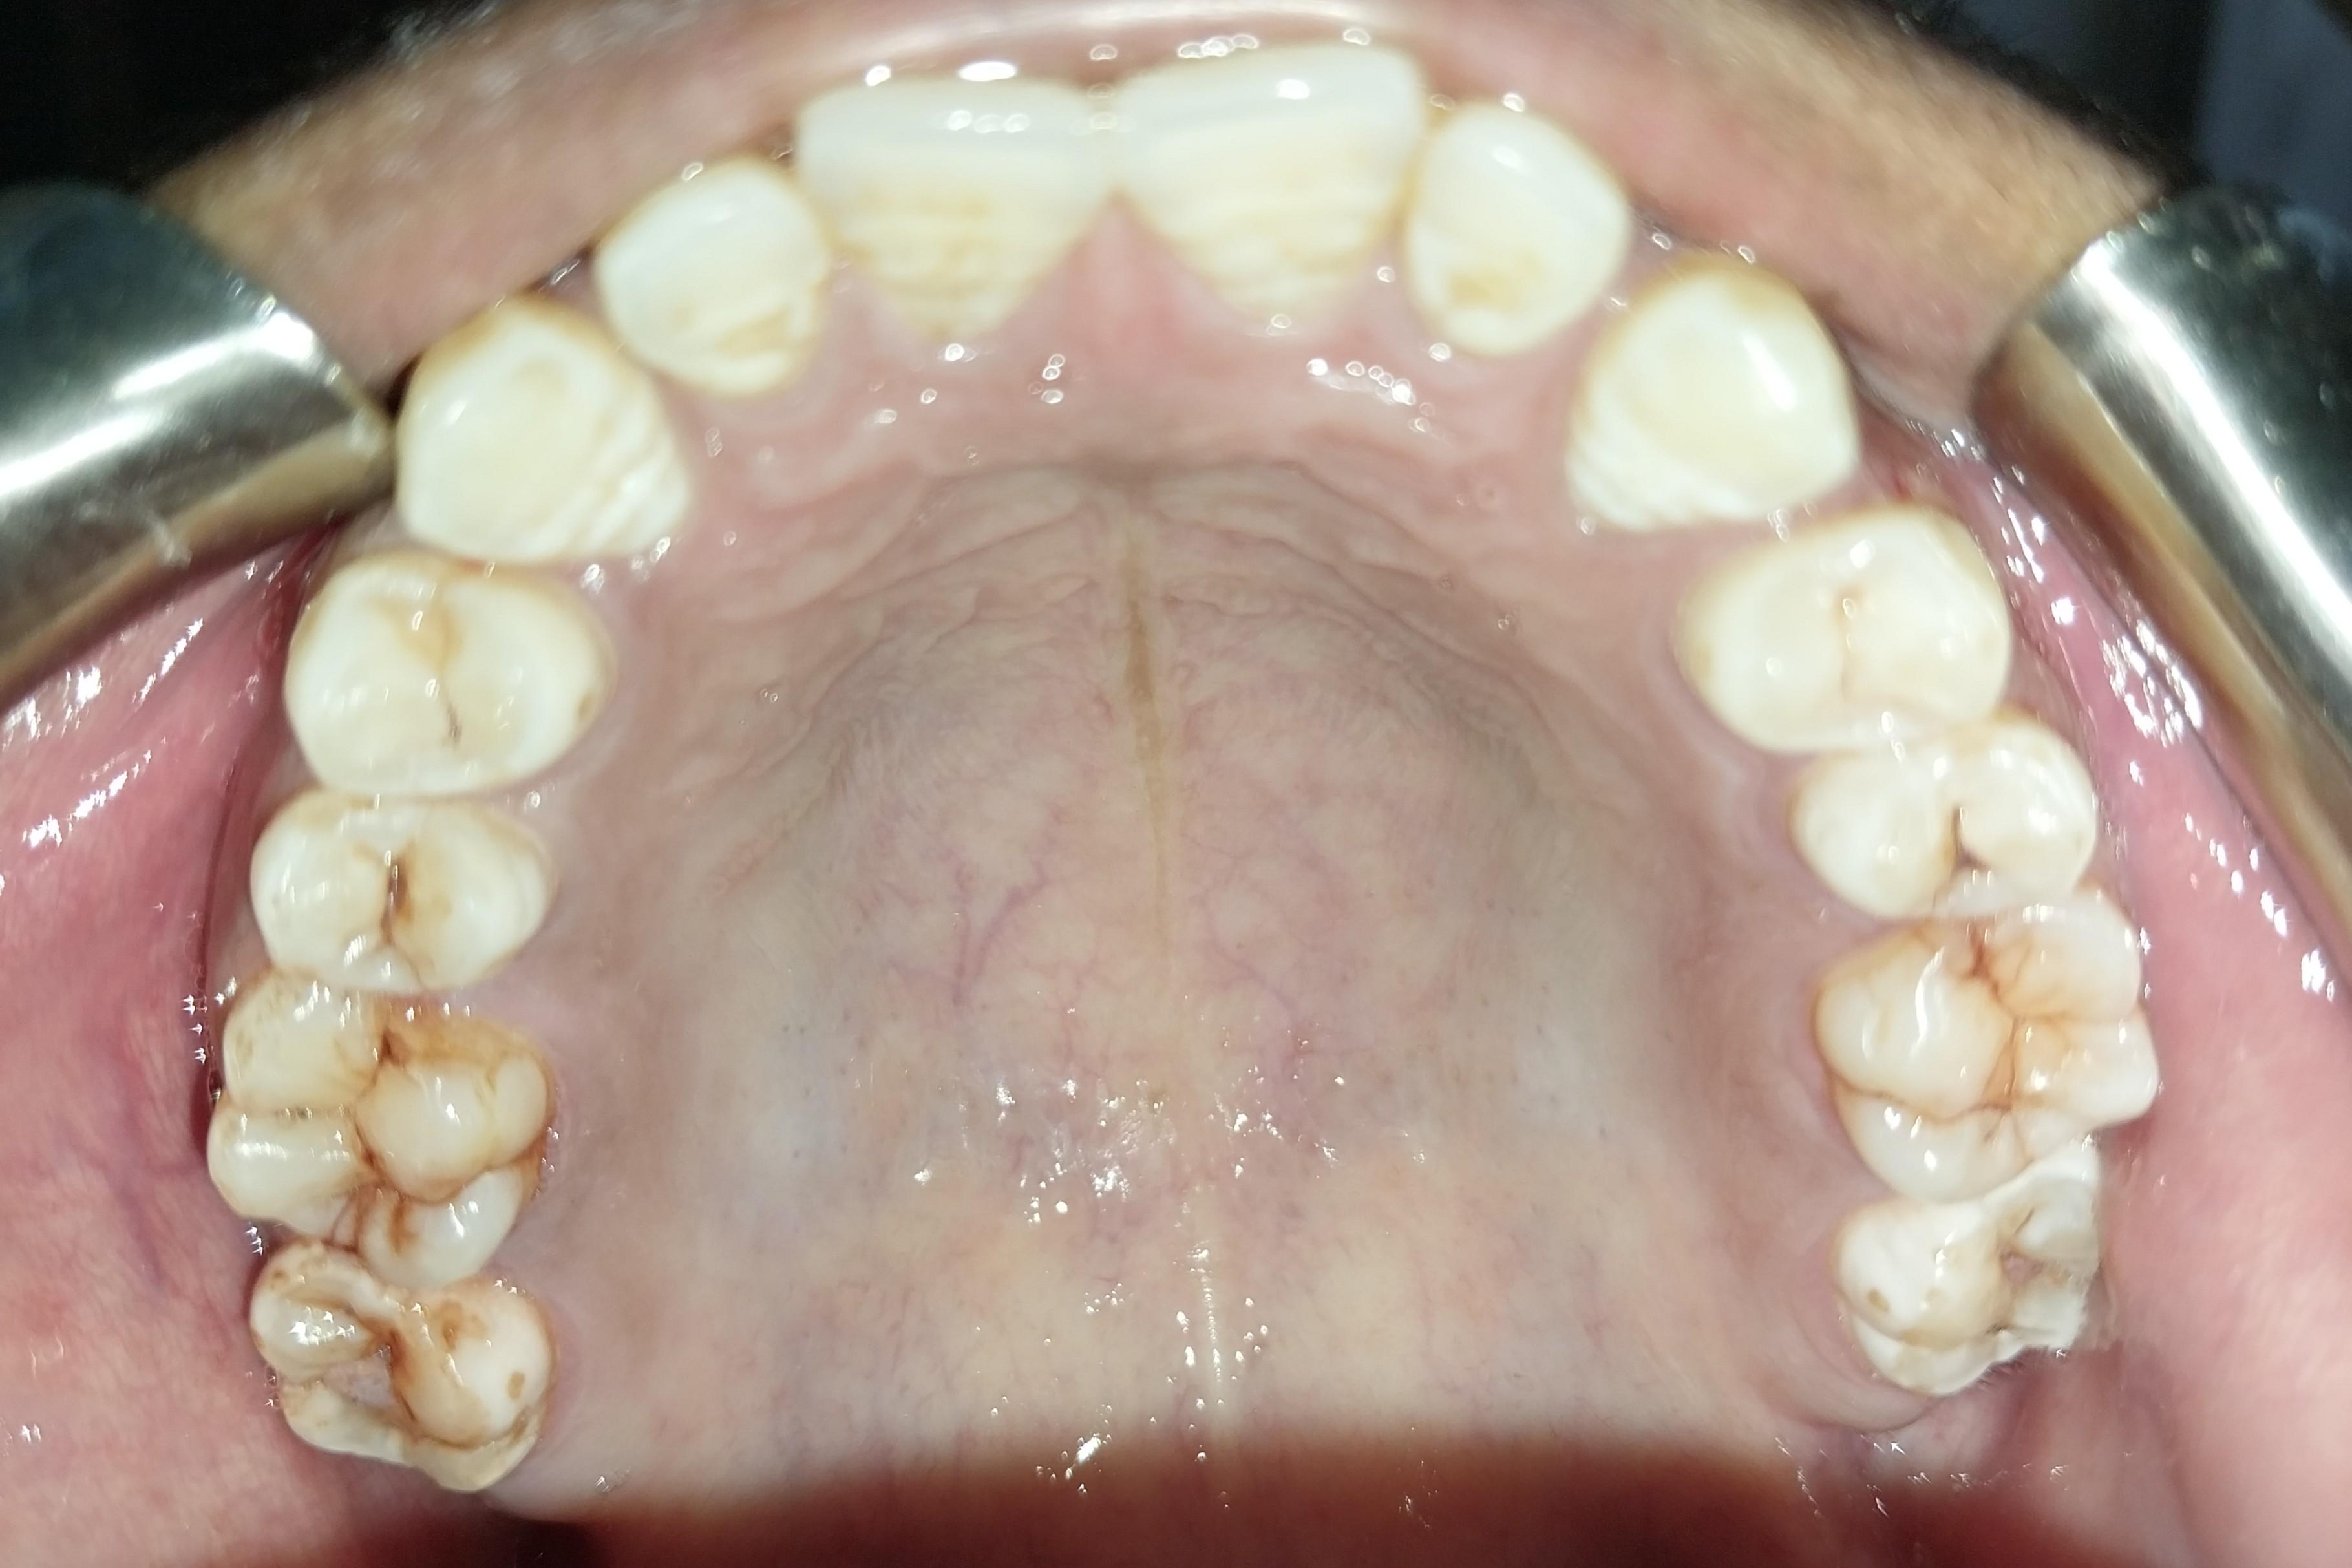D: (193, 994, 540, 1287), (1827, 913, 2170, 1188), (211, 1252, 548, 1498), (246, 787, 546, 997), (1822, 1172, 2099, 1392), (1792, 748, 2113, 940)
